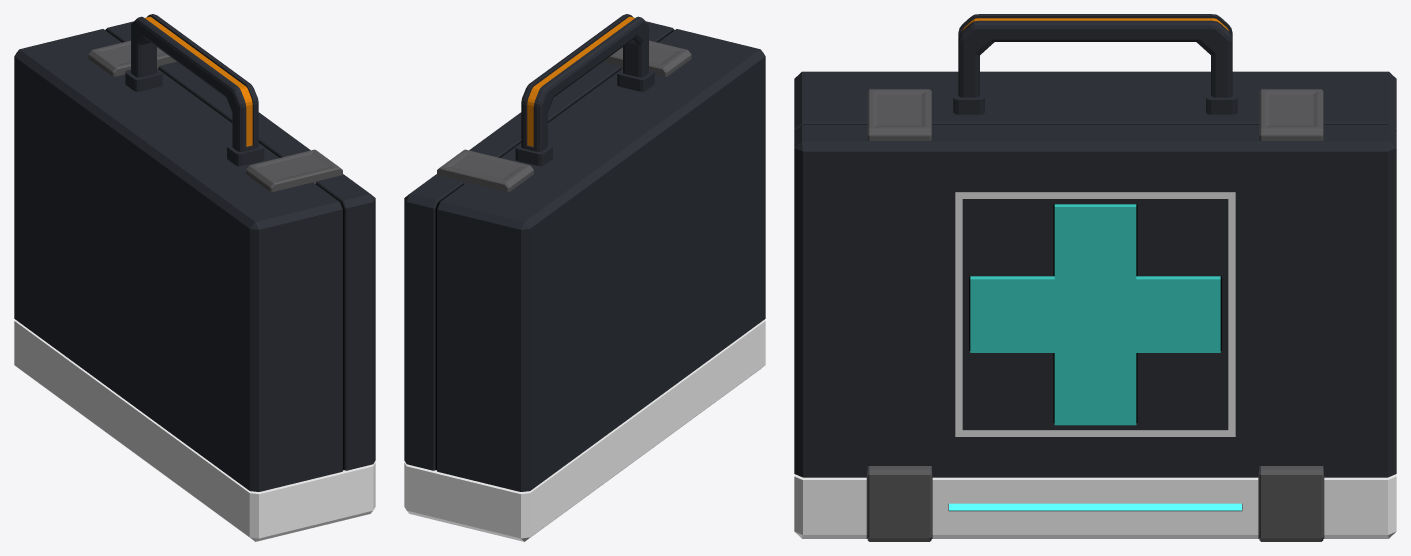
File: SM_Medical_Case.fbx
3 renders of one model, left to right at view 1: azimuth 30°, elevation 25°; view 2: azimuth 150°, elevation 25°; view 3: azimuth 270°, elevation 25°, orthographic. The views are drawn at different scales.
Parts seen in each view (by area): view 1: SM_Medical_Case.001; view 2: SM_Medical_Case.001; view 3: SM_Medical_Case.001.
Boxes of the visible parts, <box> form: SM_Medical_Case.001: <box>14,14,375,541</box>; SM_Medical_Case.001: <box>404,14,765,541</box>; SM_Medical_Case.001: <box>794,14,1396,541</box>.
Size of the model in its own units: 15.62 by 44.47 by 50.
